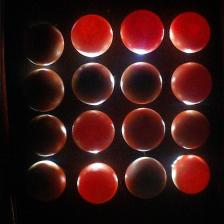fertile: (20, 68, 64, 112), (71, 62, 115, 106), (121, 108, 165, 152), (124, 156, 168, 200), (20, 23, 65, 66), (23, 114, 67, 157), (25, 160, 67, 204), (121, 62, 163, 105), (170, 110, 210, 150)
infertile: (120, 9, 164, 55), (70, 13, 113, 58), (72, 110, 114, 154), (76, 162, 119, 204), (171, 62, 212, 105), (169, 12, 210, 54), (171, 154, 210, 195)
